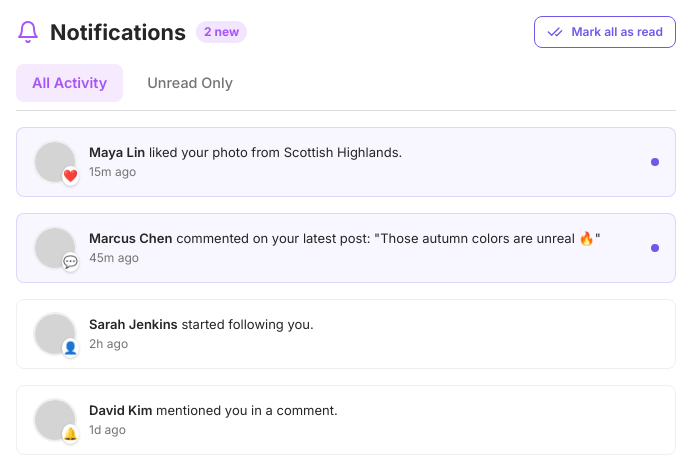
Notifications Page › allows switching to unread filter tab
Click the tab "Unread Only": (190, 83) [131,64,249,102]
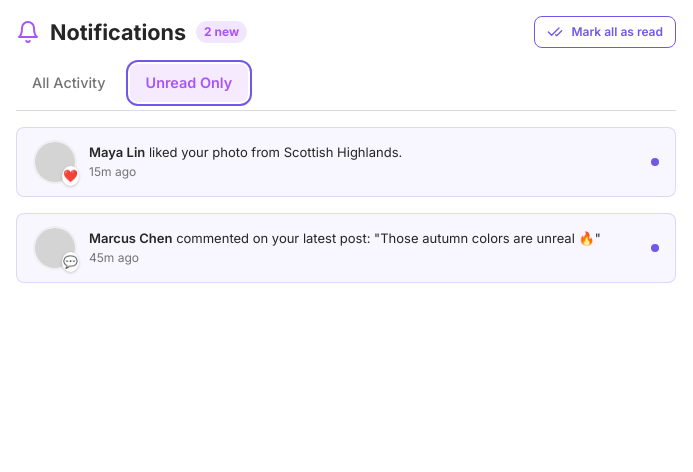
expect the tab "Unread Only" is selected: met, box [130,64,248,102]
